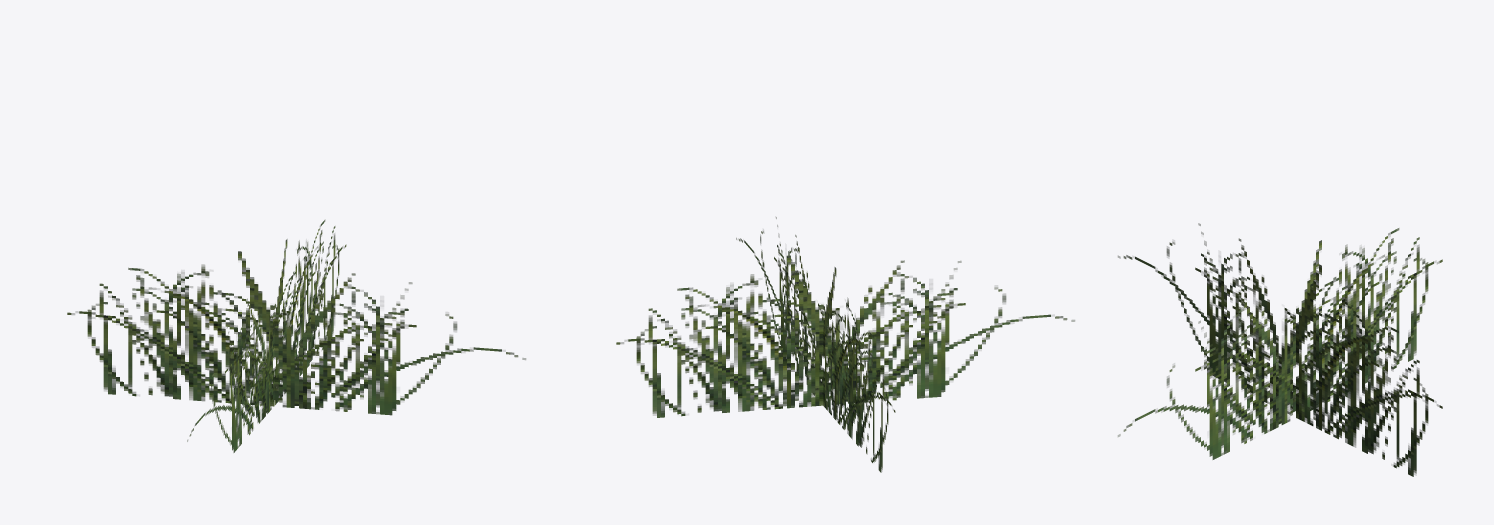
File: grass1.glb
The picture shows the model from 3 angles, left to right: view 1: azimuth 30°, elevation 25°; view 2: azimuth 150°, elevation 25°; view 3: azimuth 270°, elevation 25°; orthographic projection. The views are drawn at different scales.
Parts seen in each view (by area): view 1: grass; view 2: grass; view 3: grass.
Part boxes in pixels (x1,y1,x2,y2): grass: (67, 219, 525, 452); grass: (616, 217, 1074, 472); grass: (1118, 223, 1442, 476).
Size of the model in its own units: 0.766 by 0.601 by 0.6428.
1 material, 1 textured.
